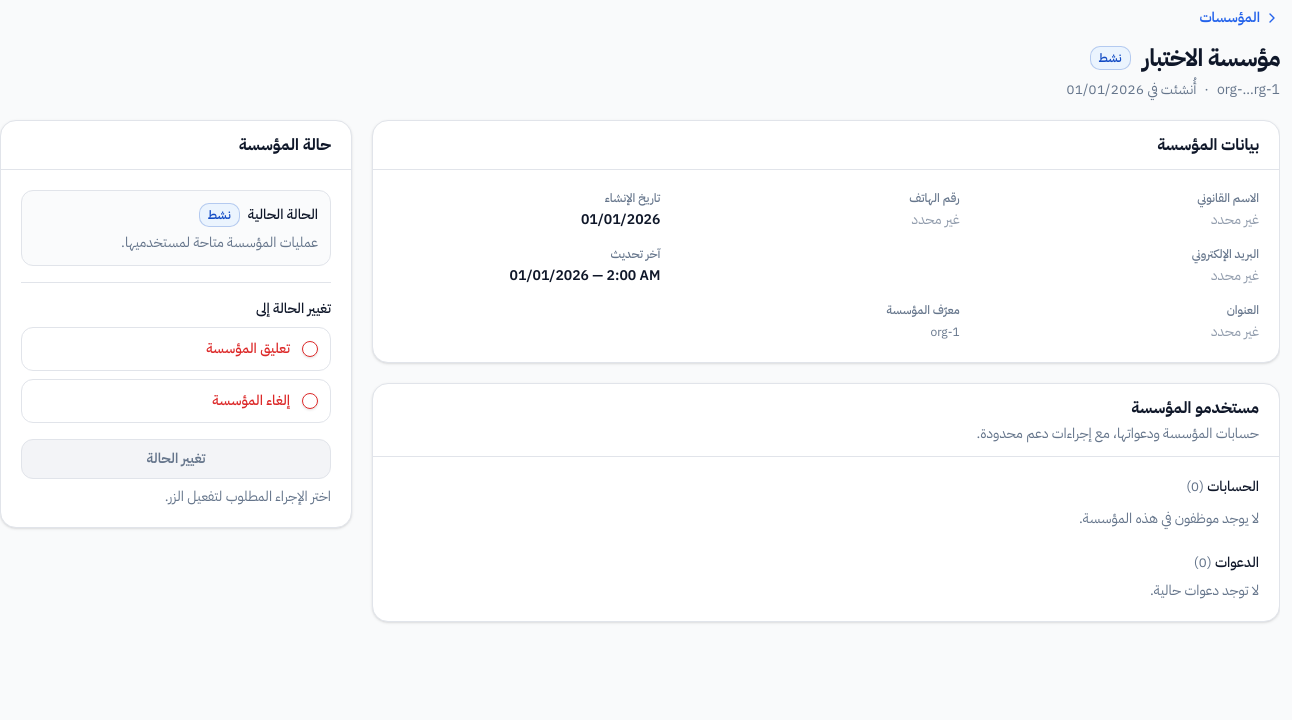
Test: PlatformOrganizationDetailPage › disables submission until a different status is chosen
This screenshot has width=1292, height=720.
Expected: the button "تغيير الحالة" is disabled, x1=21 y1=439 x2=331 y2=479
Step 1. Click the radio button next to "تعليق المؤسسة" → coordinates (310, 349), box x1=302 y1=341 x2=318 y2=357
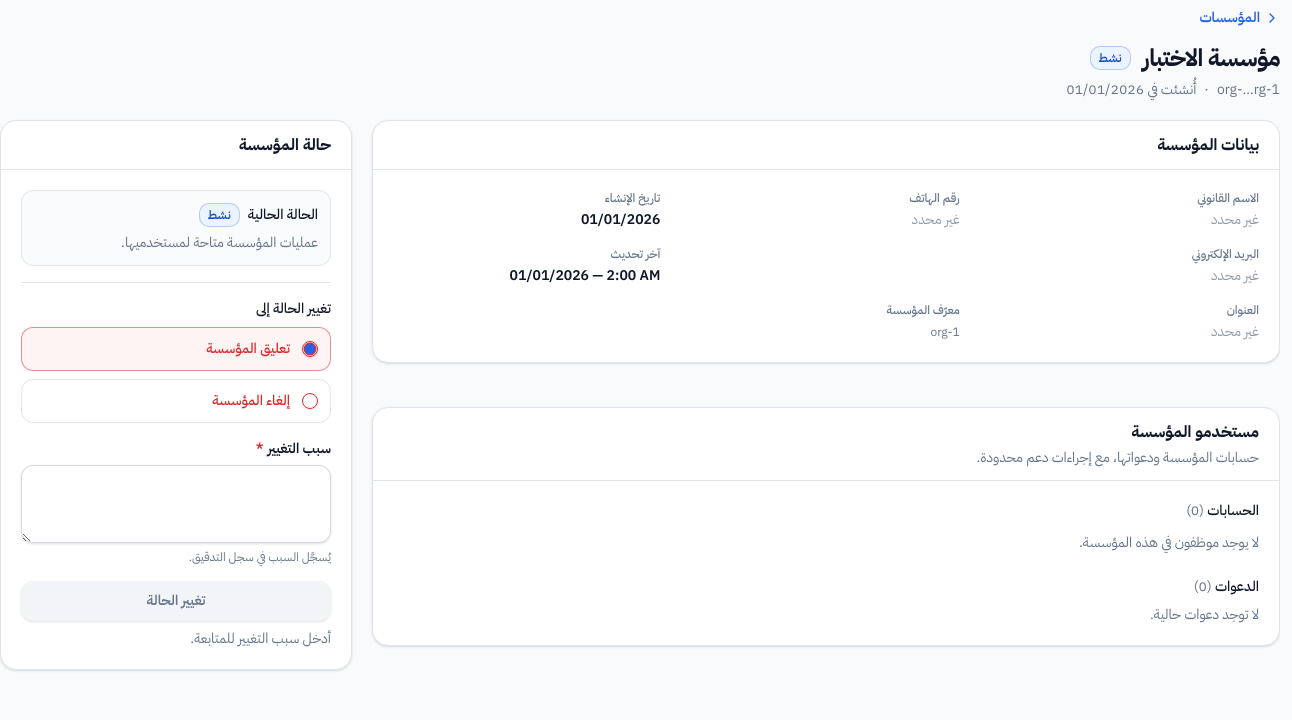
Expected: the button "تغيير الحالة" is disabled, x1=21 y1=581 x2=331 y2=621
Result: the text box labelled "سبب التغيير*" is shown at x1=21 y1=465 x2=331 y2=543
